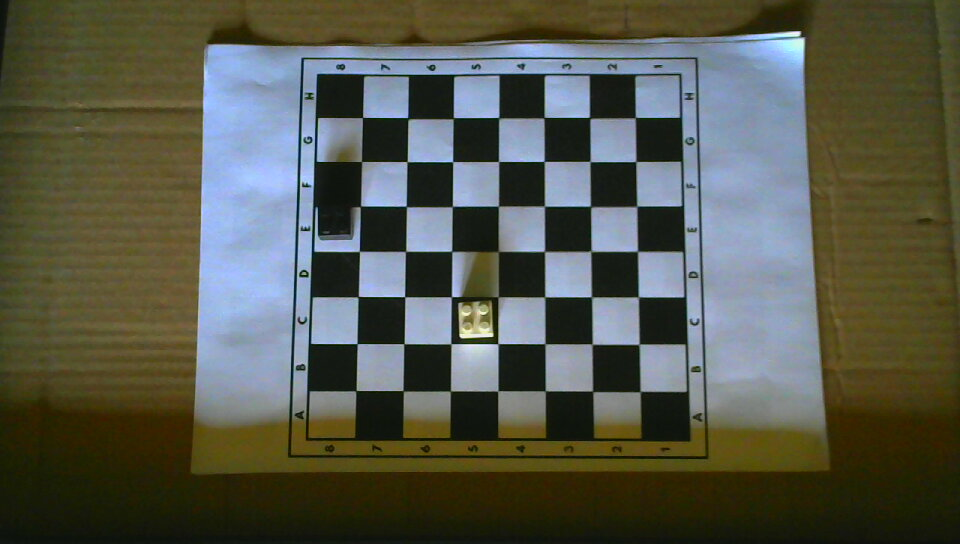bp: (313, 201, 354, 242)
wp: (455, 300, 496, 339)
